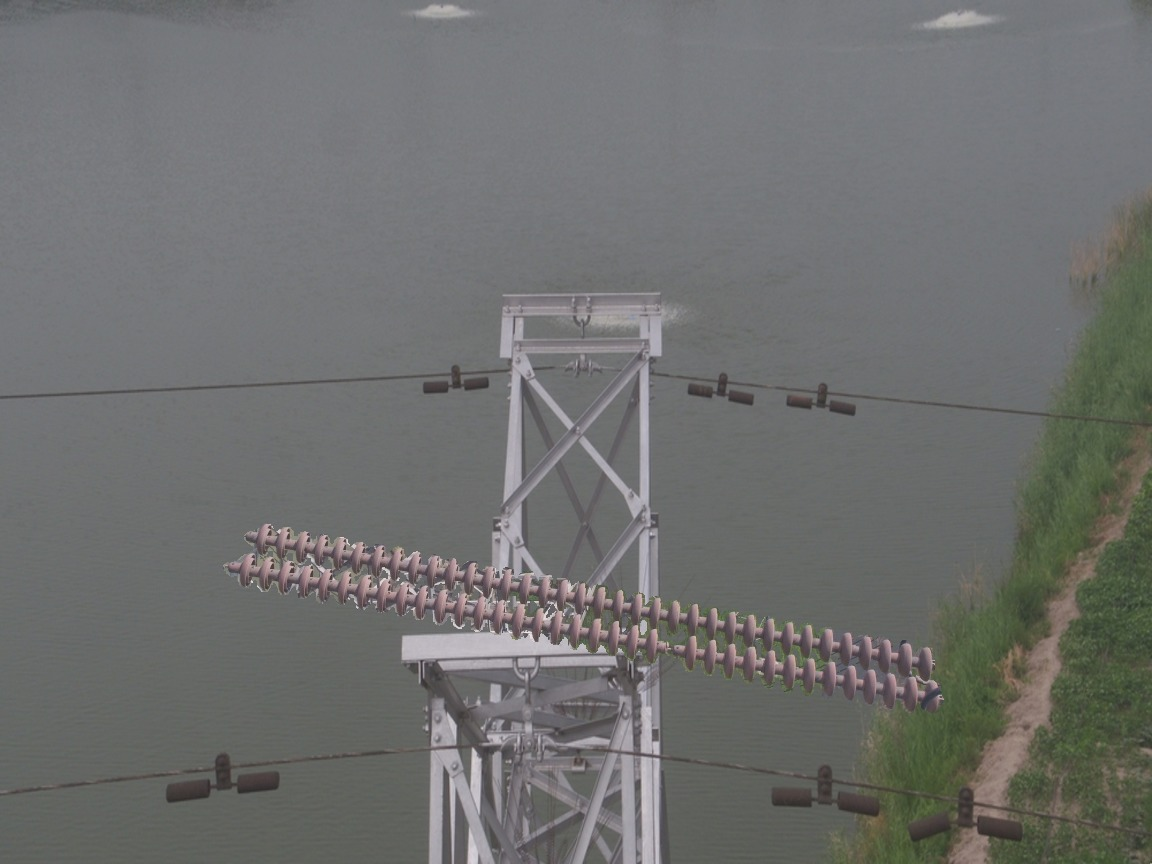defect: (640, 627, 704, 673)
